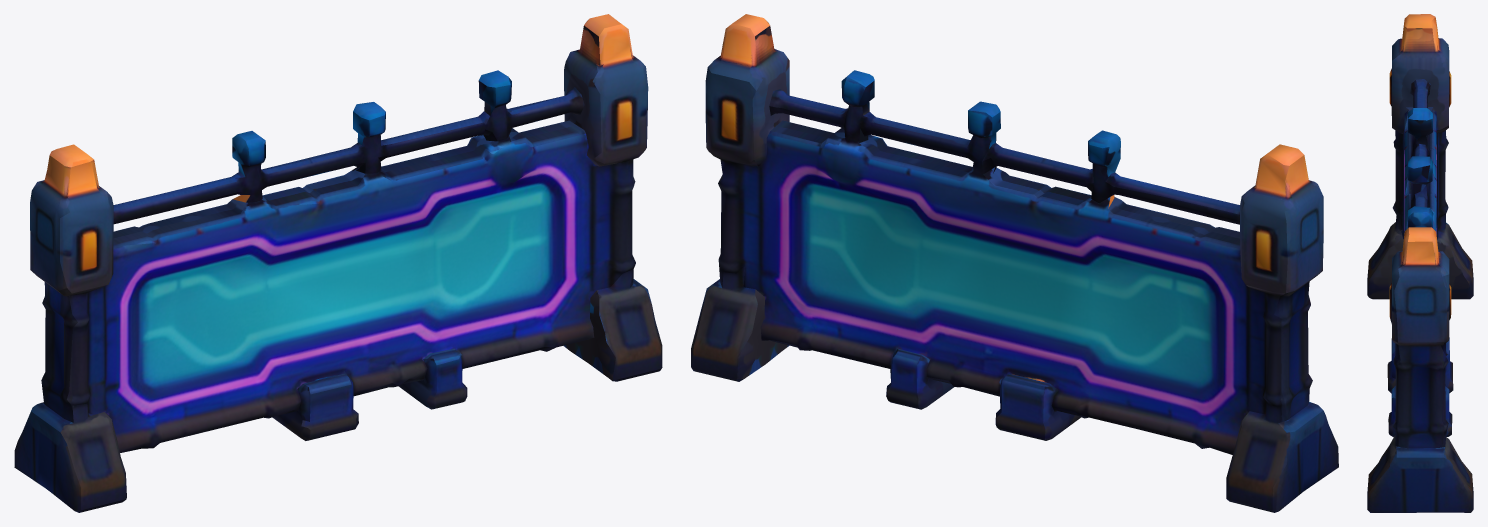
The model's file is NewBG9.fbx.
3 renders of one model, left to right at view 1: azimuth 30°, elevation 25°; view 2: azimuth 150°, elevation 25°; view 3: azimuth 270°, elevation 25°, orthographic. The views are drawn at different scales.
Parts seen in each view (by area): view 1: tmp2i0jhvcj.ply; view 2: tmp2i0jhvcj.ply; view 3: tmp2i0jhvcj.ply.
Part boxes in pixels (x1,y1,x2,y2): tmp2i0jhvcj.ply: (14,14,662,512); tmp2i0jhvcj.ply: (691,14,1338,512); tmp2i0jhvcj.ply: (1367,14,1473,512).
Bounding box in the file's own units: 199 × 108 × 37.95.
Materials: 1 (1 with a texture image).
